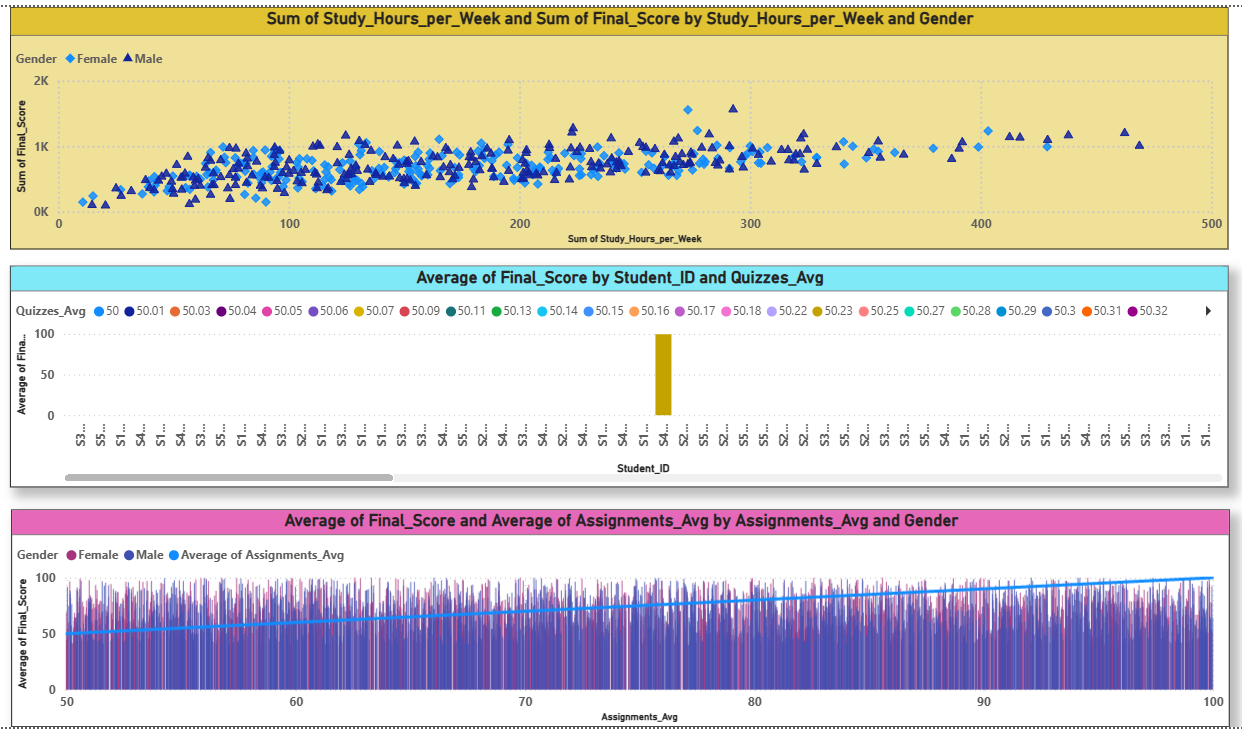

The page's visual inventory and layout, read from the dashboard file:
{"tool":"powerbi","page":{"name":"DashBoard 3","canvas":[1280,720],"ordinal":2},"visuals":[{"type":"scatterChart","fields":{"X":["Sum(Students Performance Dataset.Study_Hours_per_Week)"],"Y":["Sum(Students Performance Dataset.Final_Score)"],"Series":["Students Performance Dataset.Gender"],"Category":["Students Performance Dataset.Study_Hours_per_Week"]},"box":[10,0,1218.8,242.5],"z":0},{"type":"columnChart","fields":{"Category":["Students Performance Dataset.Student_ID"],"Series":["Students Performance Dataset.Quizzes_Avg"],"Y":["Avg(Students Performance Dataset.Final_Score)"]},"box":[10,258.8,1218.8,221.2],"z":1000},{"type":"lineClusteredColumnComboChart","fields":{"Category":["Students Performance Dataset.Assignments_Avg"],"Y":["Avg(Students Performance Dataset.Final_Score)"],"Y2":["Avg(Students Performance Dataset.Assignments_Avg)"],"Series":["Students Performance Dataset.Gender"]},"box":[11.2,502.5,1218.8,217.5],"z":2000}]}

Visuals, with their boxes in screenshot pixels (x1, y1, x2, y2):
scatterChart - Sum(Students Performance Dataset.Study_Hours_per_Week) x Sum(Students Performance Dataset.Final_Score): (x1=13, y1=6, x2=1222, y2=247)
columnChart - Students Performance Dataset.Student_ID x Students Performance Dataset.Quizzes_Avg: (x1=13, y1=263, x2=1222, y2=483)
lineClusteredColumnComboChart - Students Performance Dataset.Assignments_Avg x Avg(Students Performance Dataset.Final_Score): (x1=14, y1=505, x2=1223, y2=721)
